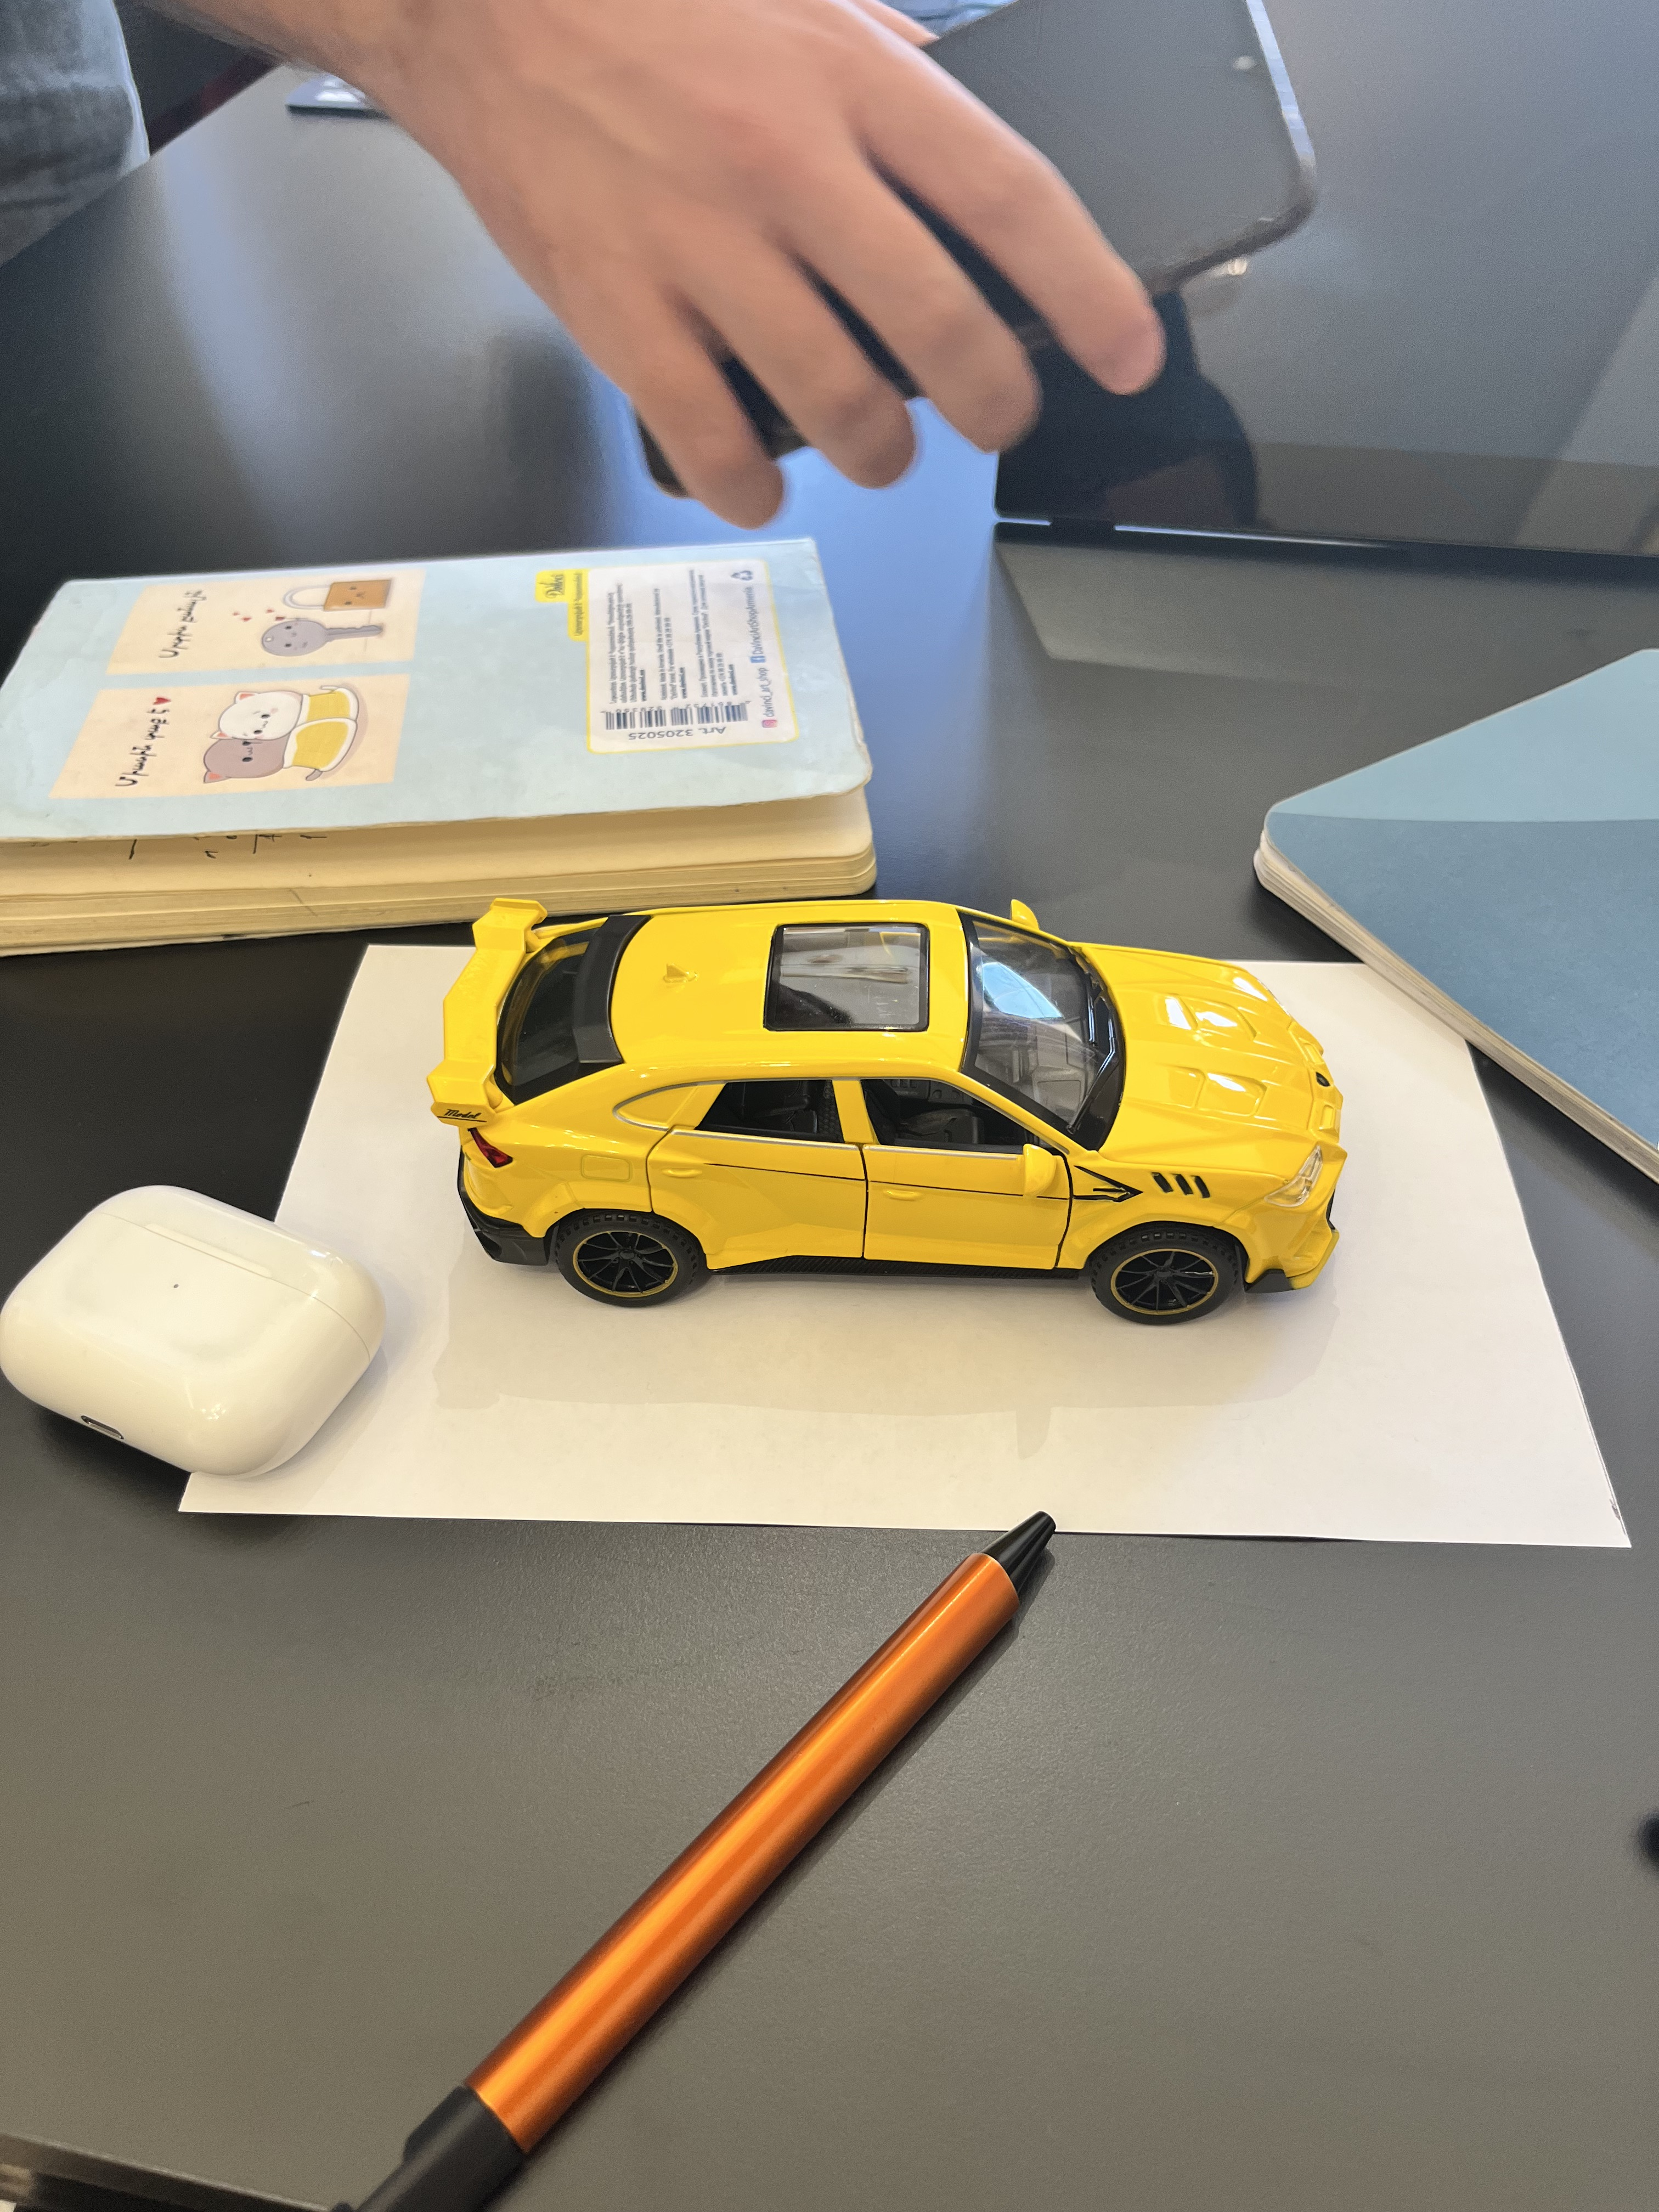lambo: (423, 897, 1349, 1318)
